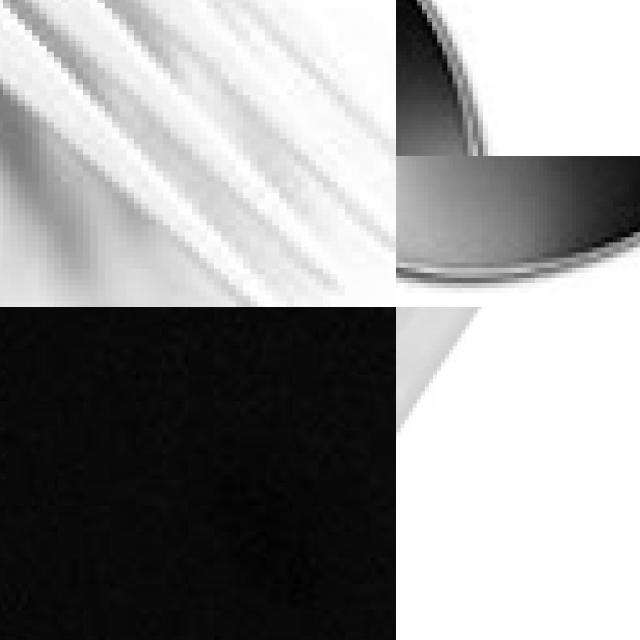forks: (0, 0, 396, 307)
spoons: (396, 68, 605, 307)
